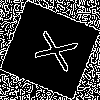X: (25, 25, 79, 73)
